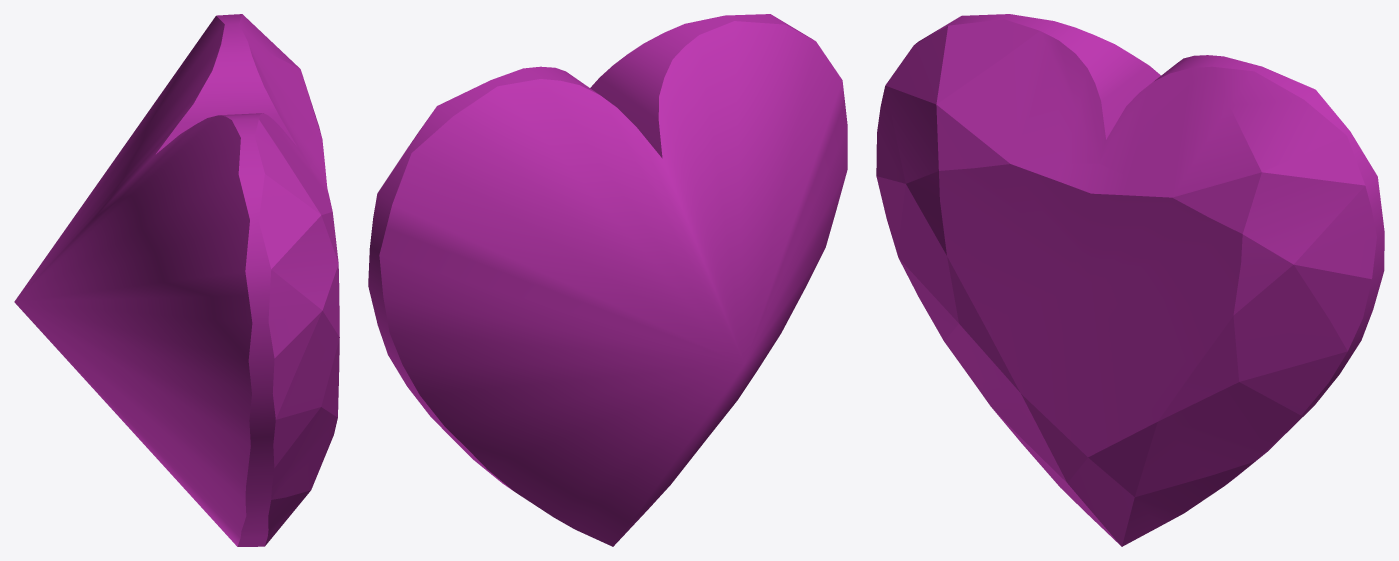
File: BR4_8shapes_heart_Classic_Stone.001 3.glb
The picture shows the model from 3 angles, left to right: view 1: azimuth 30°, elevation 25°; view 2: azimuth 150°, elevation 25°; view 3: azimuth 270°, elevation 25°; orthographic projection. The views are drawn at different scales.
Visible parts, largest first — view 1: BR4_8shapes_heart_Classic_Stone.001; view 2: BR4_8shapes_heart_Classic_Stone.001; view 3: BR4_8shapes_heart_Classic_Stone.001.
Part boxes in pixels (x1,y1,x2,y2): BR4_8shapes_heart_Classic_Stone.001: [14, 14, 339, 546]; BR4_8shapes_heart_Classic_Stone.001: [368, 14, 847, 546]; BR4_8shapes_heart_Classic_Stone.001: [876, 14, 1384, 546].
Bounding box in the file's own units: 0.3181 × 0.4594 × 0.4278.
